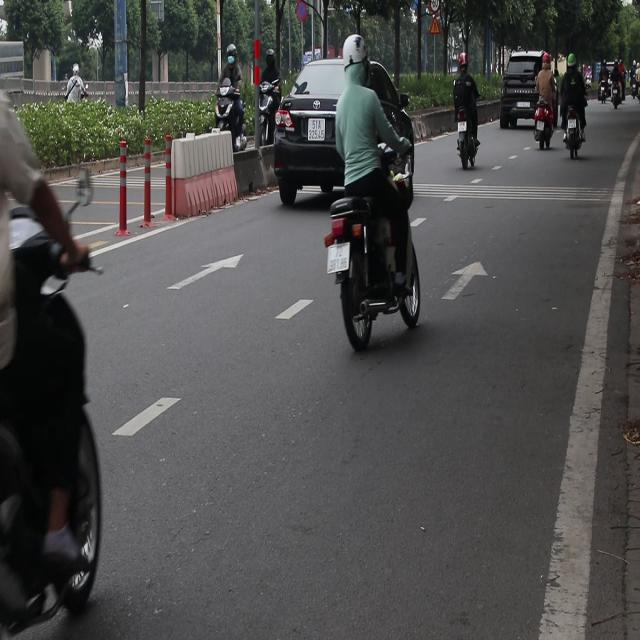car: (272, 48, 414, 204), (500, 50, 552, 132)
motorbike: (0, 179, 111, 640), (324, 194, 424, 351), (212, 74, 243, 158), (255, 72, 283, 154), (457, 117, 484, 176), (532, 106, 556, 154), (565, 112, 588, 162), (613, 85, 626, 117), (598, 81, 610, 104)
